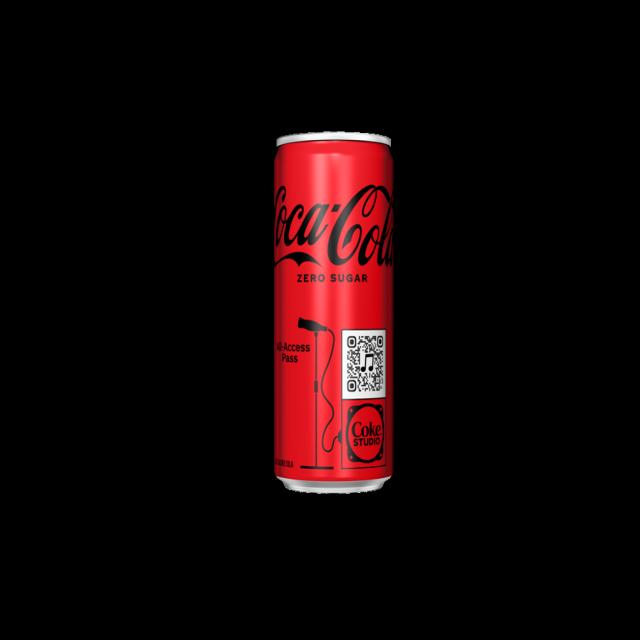cocacola: (266, 131, 401, 499)
